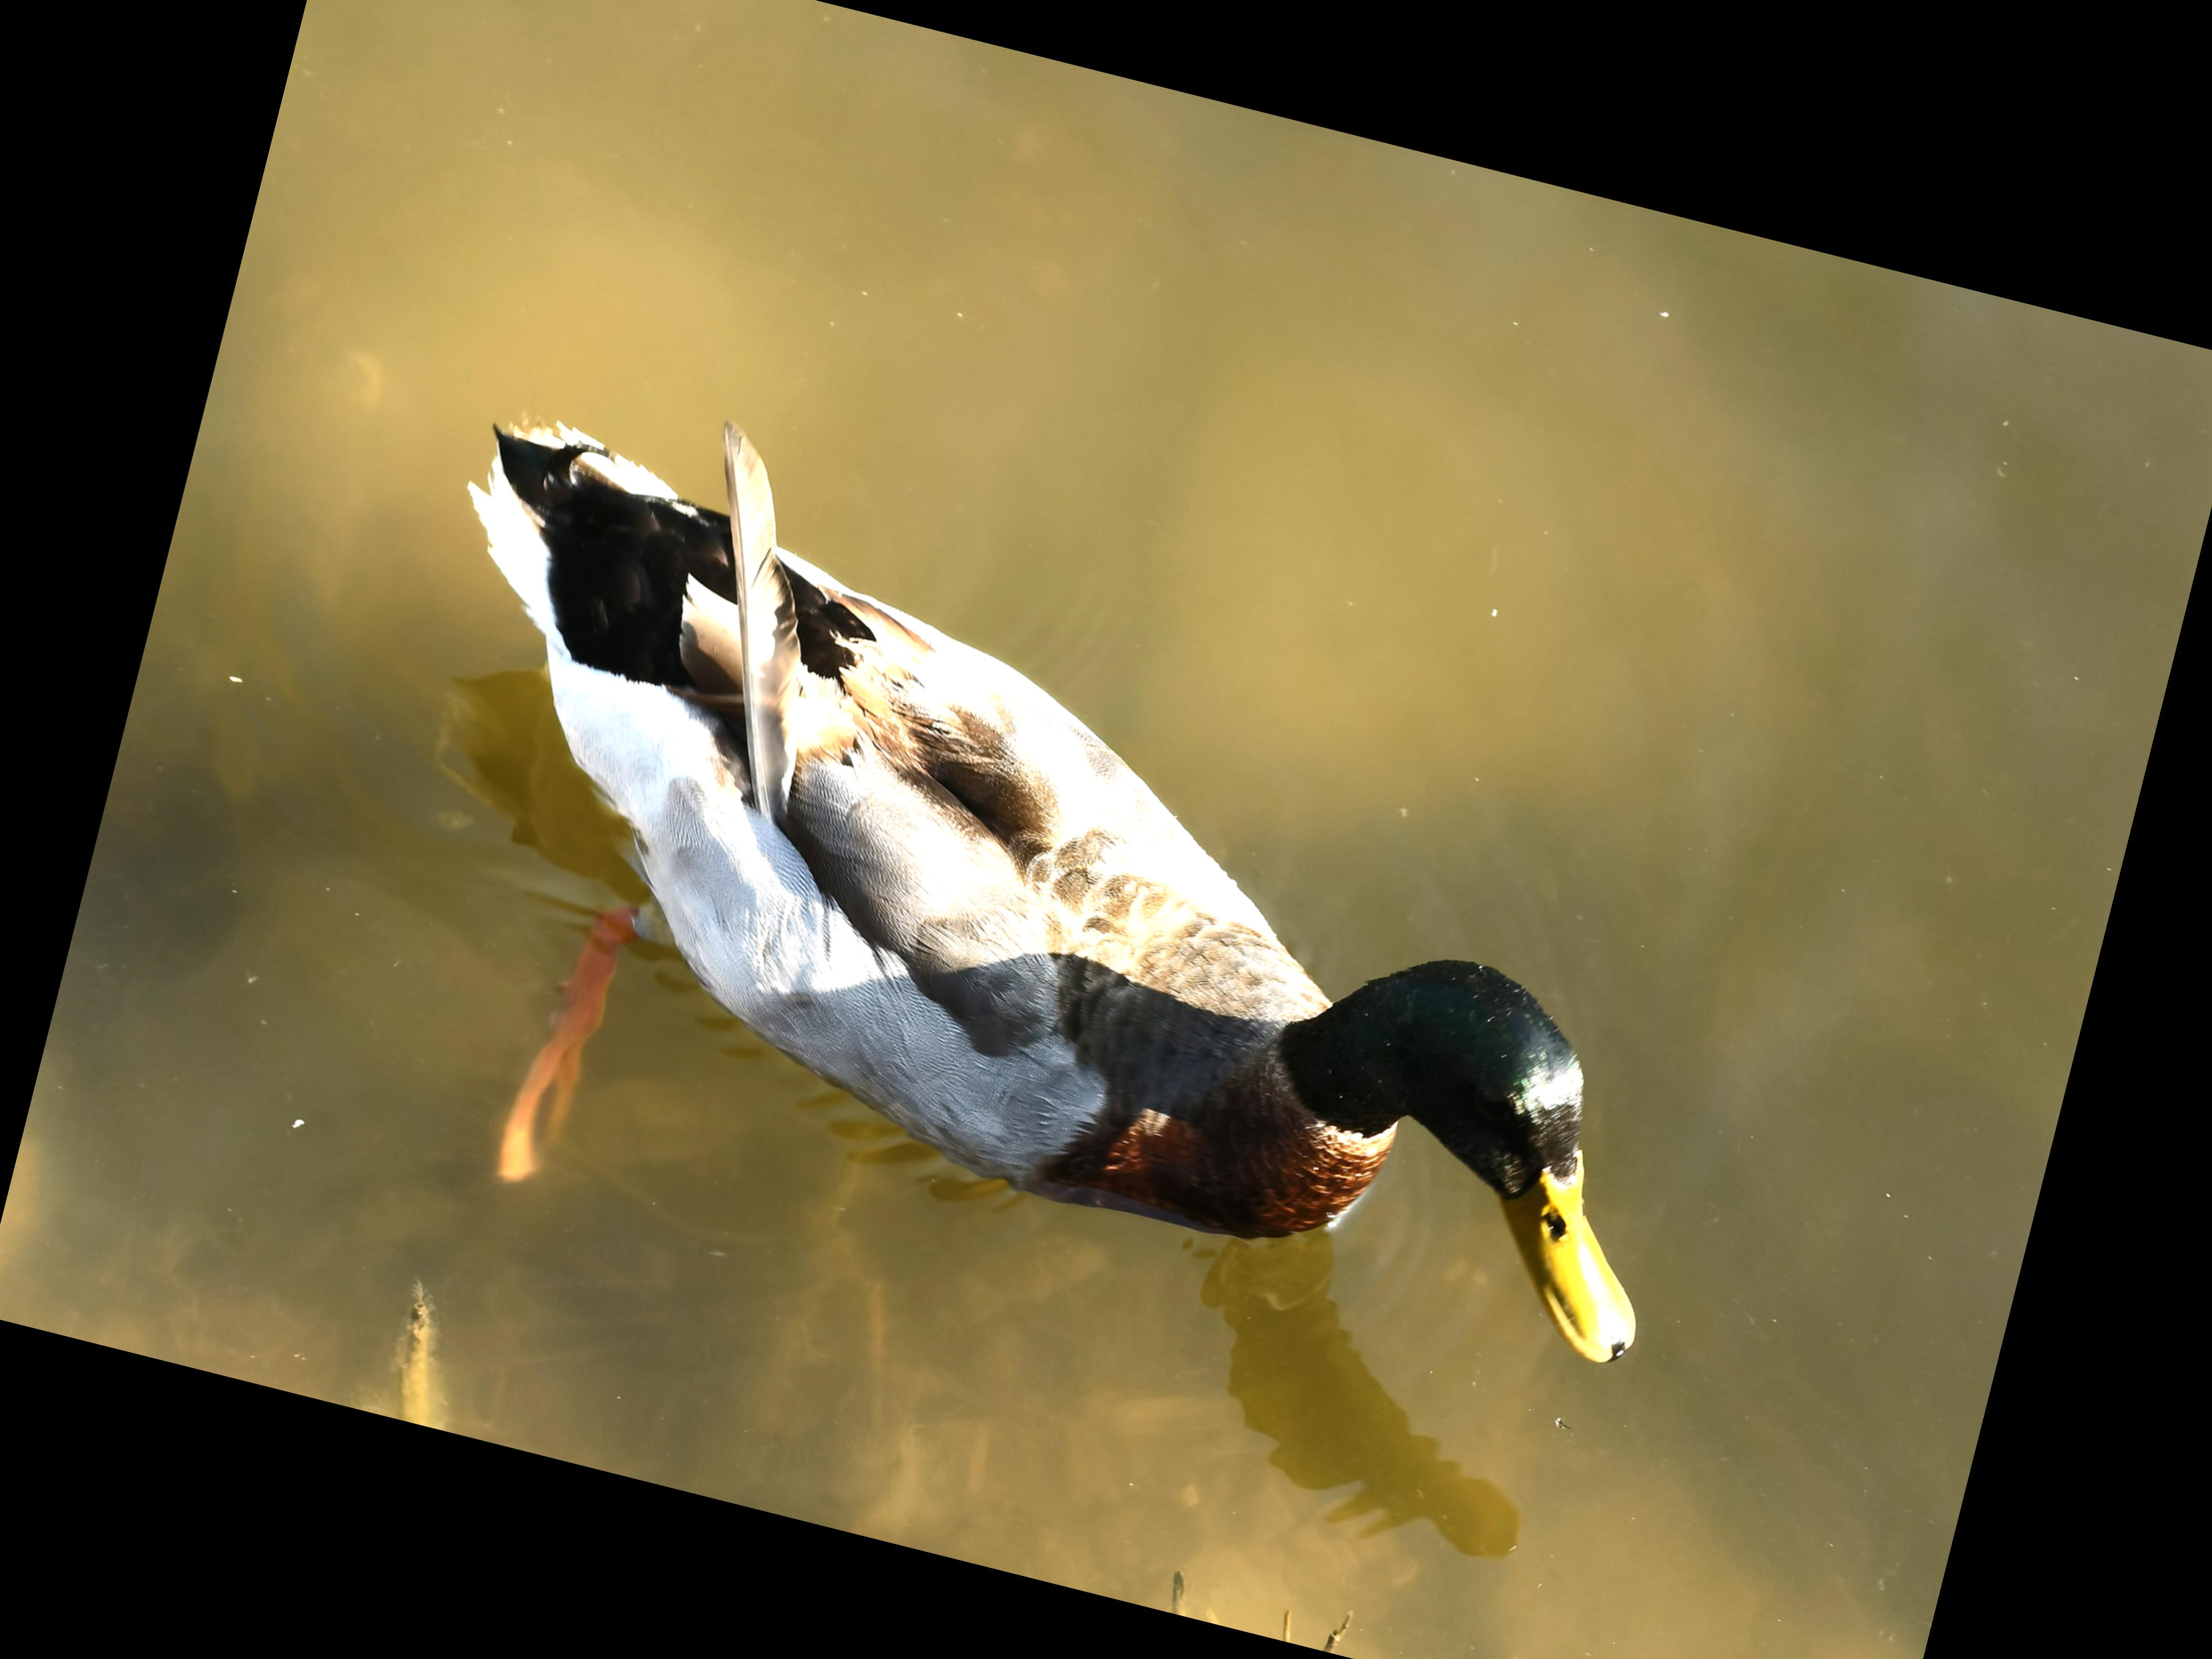duck: (266, 328, 1844, 1459)
